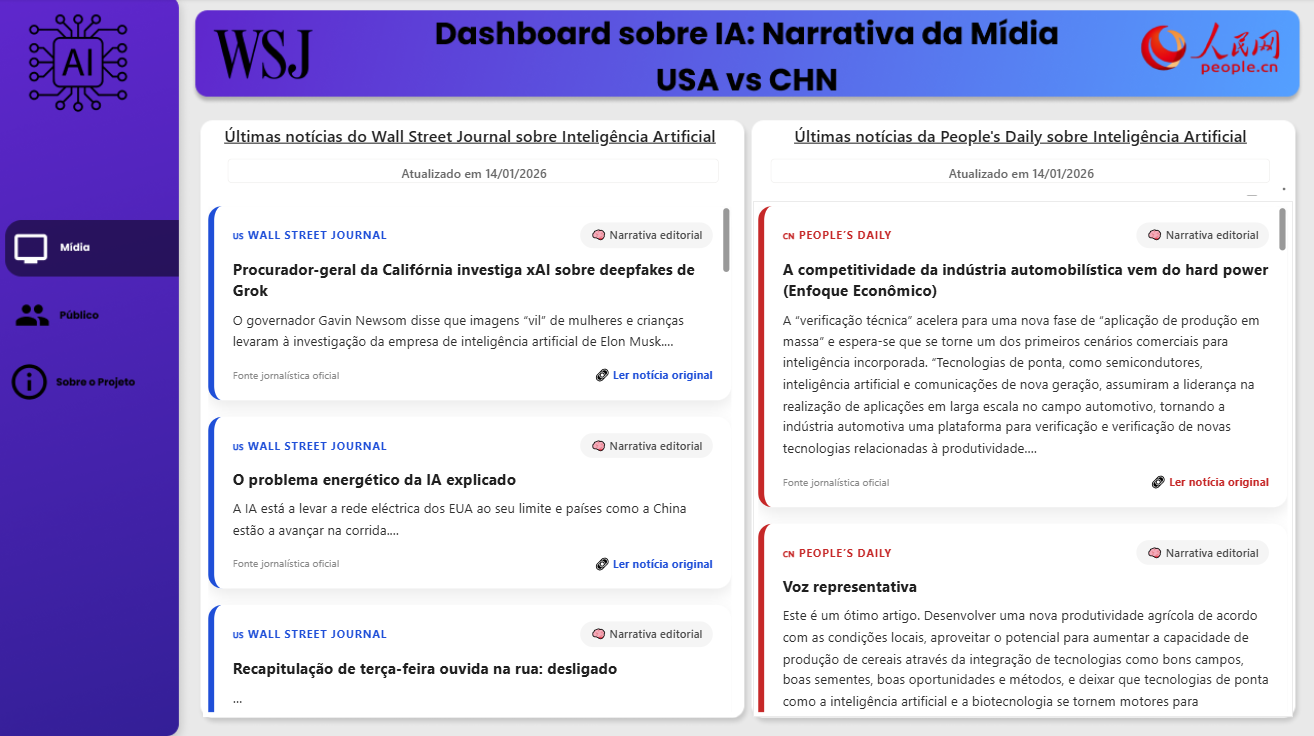

The page's visual inventory and layout, read from the dashboard file:
{"tool":"powerbi","page":{"name":"Mídia","canvas":[1280,720],"ordinal":0},"visuals":[{"type":"htmlContent443BE3AD55E043BF878BED274D3A6855","fields":{"content":["_medidas.Noticia_HTML"],"sampling":["dados.titulo_pt","dados.ordem_coleta"]},"box":[197.4,197.4,519.4,501.9],"z":0},{"type":"htmlContent443BE3AD55E043BF878BED274D3A6855","fields":{"content":["_medidas.Noticia_HTML"],"sampling":["dados.titulo_pt","dados.ordem_coleta"]},"box":[732.4,197.4,525.2,501.9],"z":1000},{"type":"textbox","box":[197.4,117.7,519.4,47.7],"z":2000},{"type":"textbox","box":[732.4,117.7,520.4,47.7],"z":3000},{"type":"pageNavigator","box":[0,217.9,175.1,181.9],"z":4000},{"type":"cardVisual","fields":{"Data":["_medidas.WSJ_DataAtualizacao"]},"box":[204.3,139.1,512.6,58.4],"z":5000},{"type":"cardVisual","fields":{"Data":["_medidas.WSJ_DataAtualizacao"]},"box":[732.4,139.1,520.4,58.4],"z":6000}]}

Visuals, with their boxes on the page's 1280x720 design canvas (x1, y1, x2, y2). These are canvas units, not pixel positions in the 1314x736 screenshot, which may show the page scaled, cropped or inside an application window:
htmlContent443BE3AD55E043BF878BED274D3A6855 - _medidas.Noticia_HTML x dados.titulo_pt: bbox(197, 197, 717, 699)
htmlContent443BE3AD55E043BF878BED274D3A6855 - _medidas.Noticia_HTML x dados.titulo_pt: bbox(732, 197, 1258, 699)
textbox: bbox(197, 118, 717, 165)
textbox: bbox(732, 118, 1253, 165)
pageNavigator: bbox(0, 218, 175, 400)
cardVisual - _medidas.WSJ_DataAtualizacao: bbox(204, 139, 717, 198)
cardVisual - _medidas.WSJ_DataAtualizacao: bbox(732, 139, 1253, 198)
